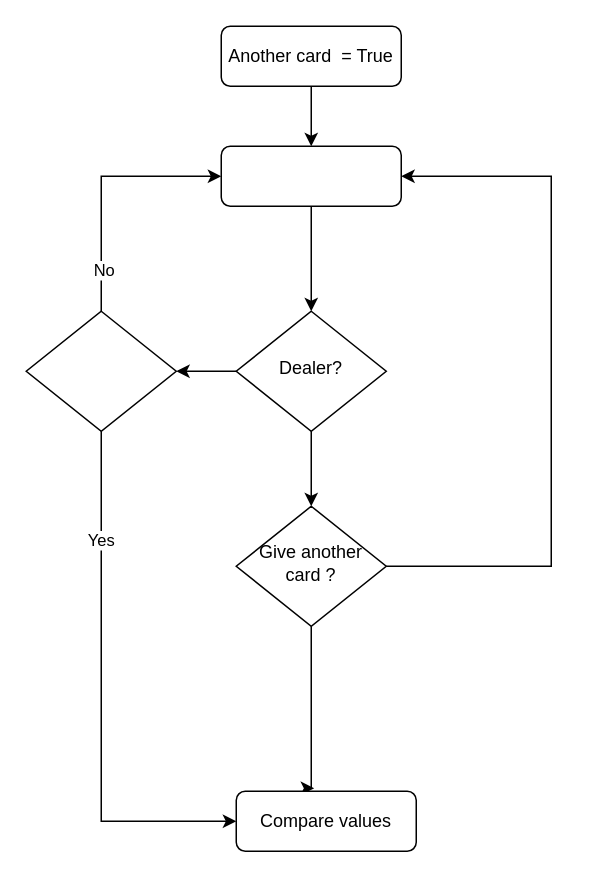
This 590x878 diagram has some shape labels left out. The shapes that lost their labels are listed below. From the top down, each one's centre as x and y in pixels, then its label:
the point at 310,175: Give card to players
the point at 100,370: Sum >= 18
